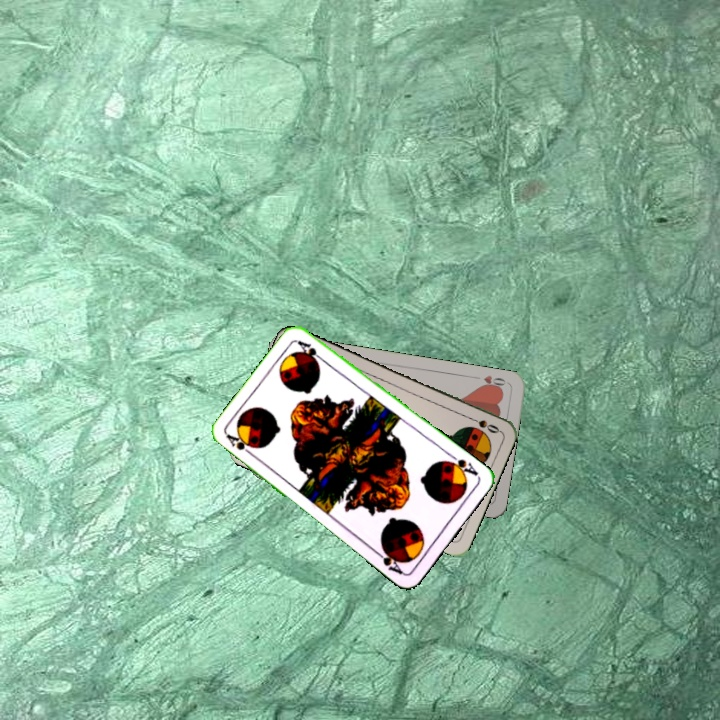HO: (476, 371, 508, 392)
SA: (442, 450, 481, 481), (222, 430, 258, 460)
SO: (463, 412, 502, 436)
